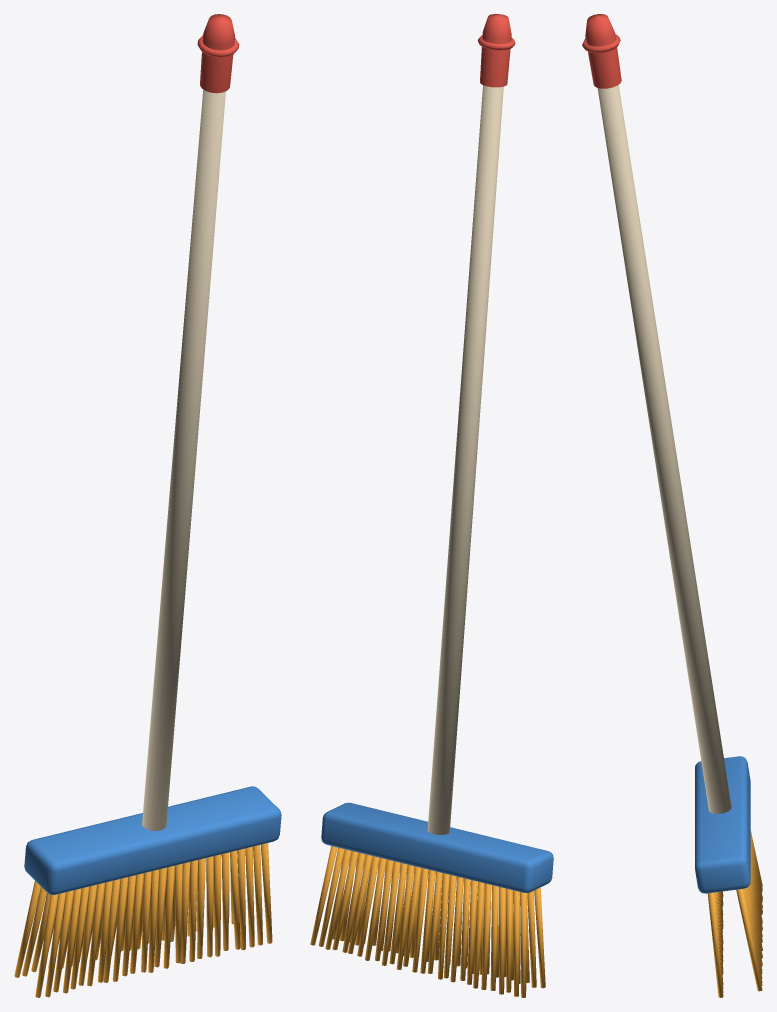
Rendered from decor-broom.glb.
3 renders of one model, left to right at view 1: azimuth 30°, elevation 25°; view 2: azimuth 150°, elevation 25°; view 3: azimuth 270°, elevation 25°, orthographic. The views are drawn at different scales.
Parts seen in each view (by area): view 1: Broom__Bristles, Broom__Stick, Broom__Head, Broom__Cap; view 2: Broom__Bristles, Broom__Stick, Broom__Head, Broom__Cap; view 3: Broom__Stick, Broom__Head, Broom__Bristles, Broom__Cap.
Boxes of the visible parts, x1,y1,x2,y2 form: Broom__Bristles: [14, 843, 272, 997]; Broom__Stick: [142, 89, 225, 830]; Broom__Head: [24, 786, 281, 894]; Broom__Cap: [197, 14, 239, 93]; Broom__Bristles: [310, 846, 545, 997]; Broom__Stick: [427, 85, 503, 834]; Broom__Head: [321, 802, 553, 892]; Broom__Cap: [478, 14, 515, 87]; Broom__Stick: [597, 85, 731, 813]; Broom__Head: [695, 756, 750, 893]; Broom__Bristles: [707, 830, 762, 997]; Broom__Cap: [582, 14, 621, 88].
Bounding box in the file's own units: 28.72 × 115 × 20.33.
